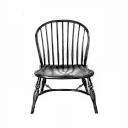chair_success: (25, 16, 102, 118)
